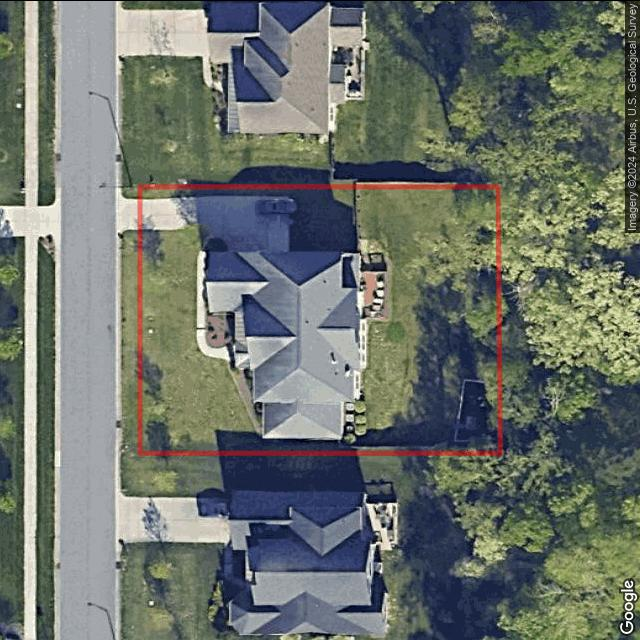Driveway: (140, 196, 297, 251)
Extra-Driveway: (122, 193, 141, 232)
Extra-Lawn: (123, 228, 141, 454), (122, 184, 141, 198)
House: (206, 250, 363, 440)
Lawn: (140, 185, 501, 453)
Other: (359, 237, 393, 324), (226, 359, 263, 434), (455, 380, 493, 442), (206, 292, 236, 347)
Sidewalk: (196, 229, 236, 360)
